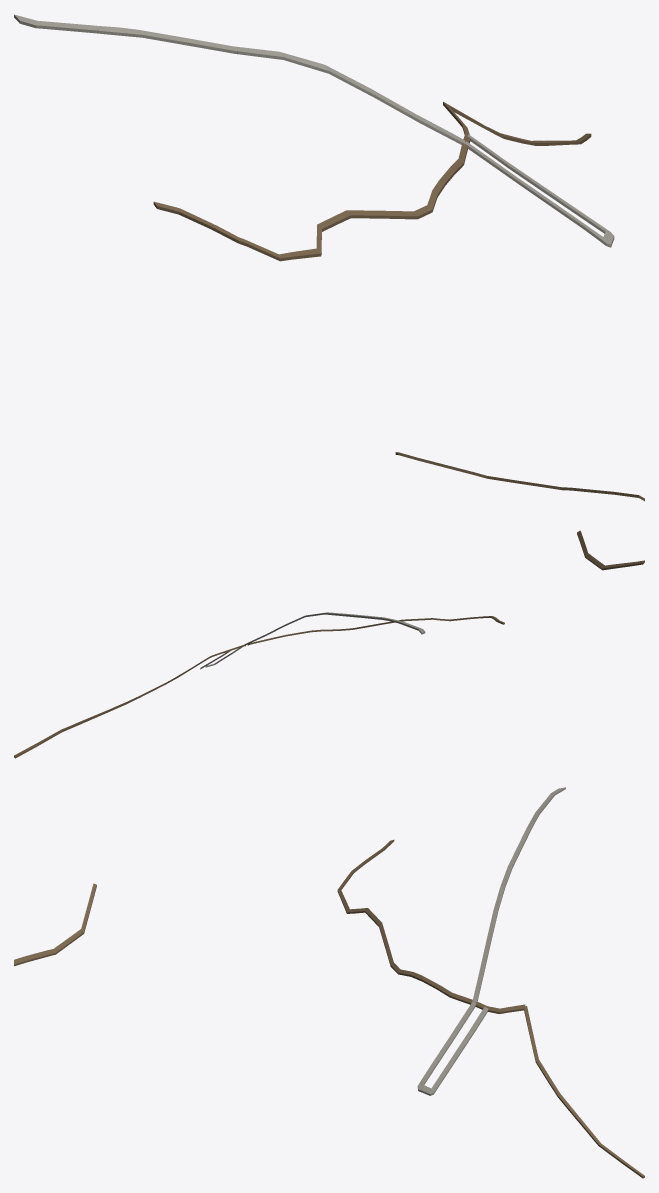
3 views of the same model, one above another, from view 1: azimuth 30°, elevation 25°; view 2: azimuth 150°, elevation 25°; view 3: azimuth 270°, elevation 25° (orthographic). The views are drawn at different scales.
Size of the model in its own units: 161 by 77.8 by 223.
